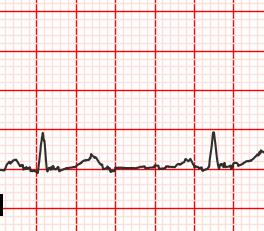LVH: (69, 150, 121, 179)
